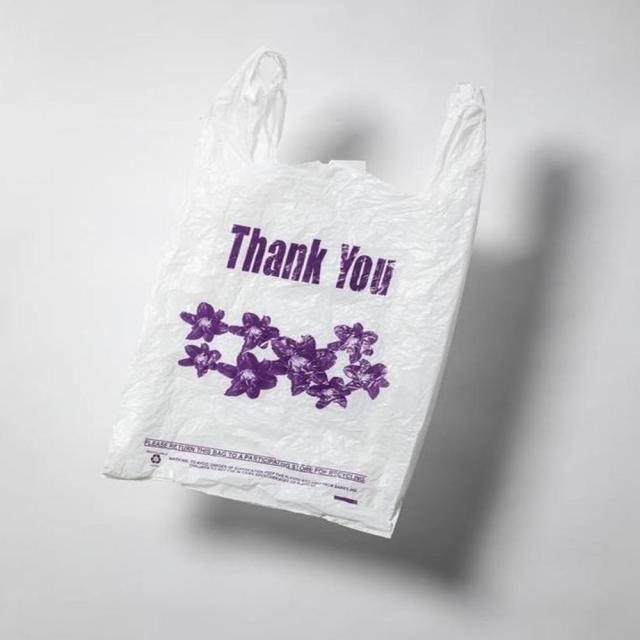Plastic_Bag: (115, 46, 491, 556)
